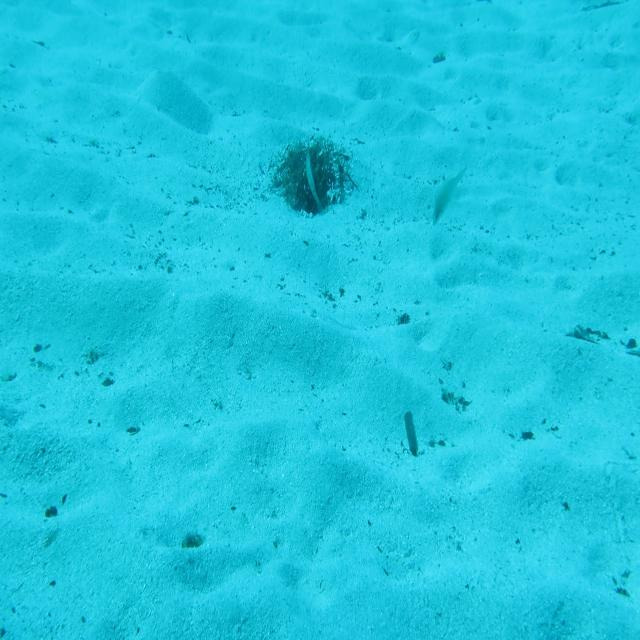FAN: (301, 148, 322, 210)
female: (430, 163, 467, 226)
nest: (266, 134, 354, 218)
vegetation: (399, 403, 418, 456), (554, 319, 604, 339), (178, 529, 206, 552), (426, 45, 443, 60)
